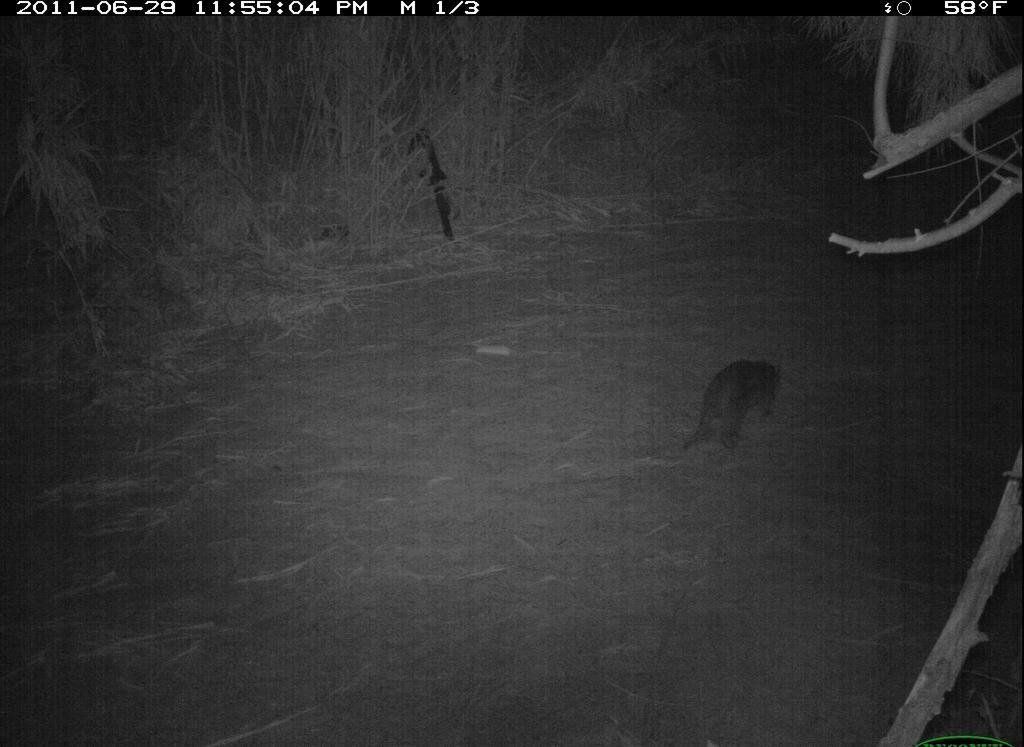raccoon: (683, 353, 788, 457)
